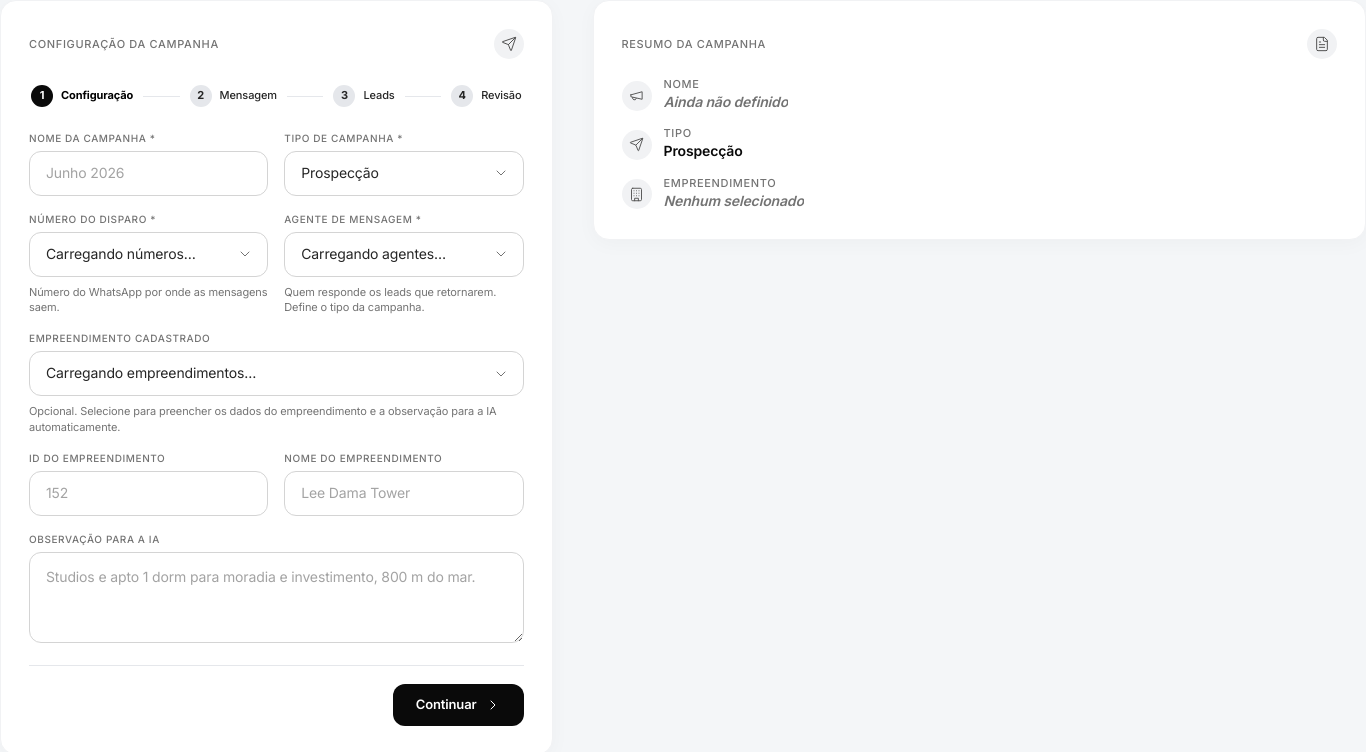
Test: DispatchForm › não deixa avançar sem número e sem agente
Type "Campanha teste" into the field labelled "Nome da campanha *".
click(149, 173); type("Campanha teste")  # box [29,151,268,196]
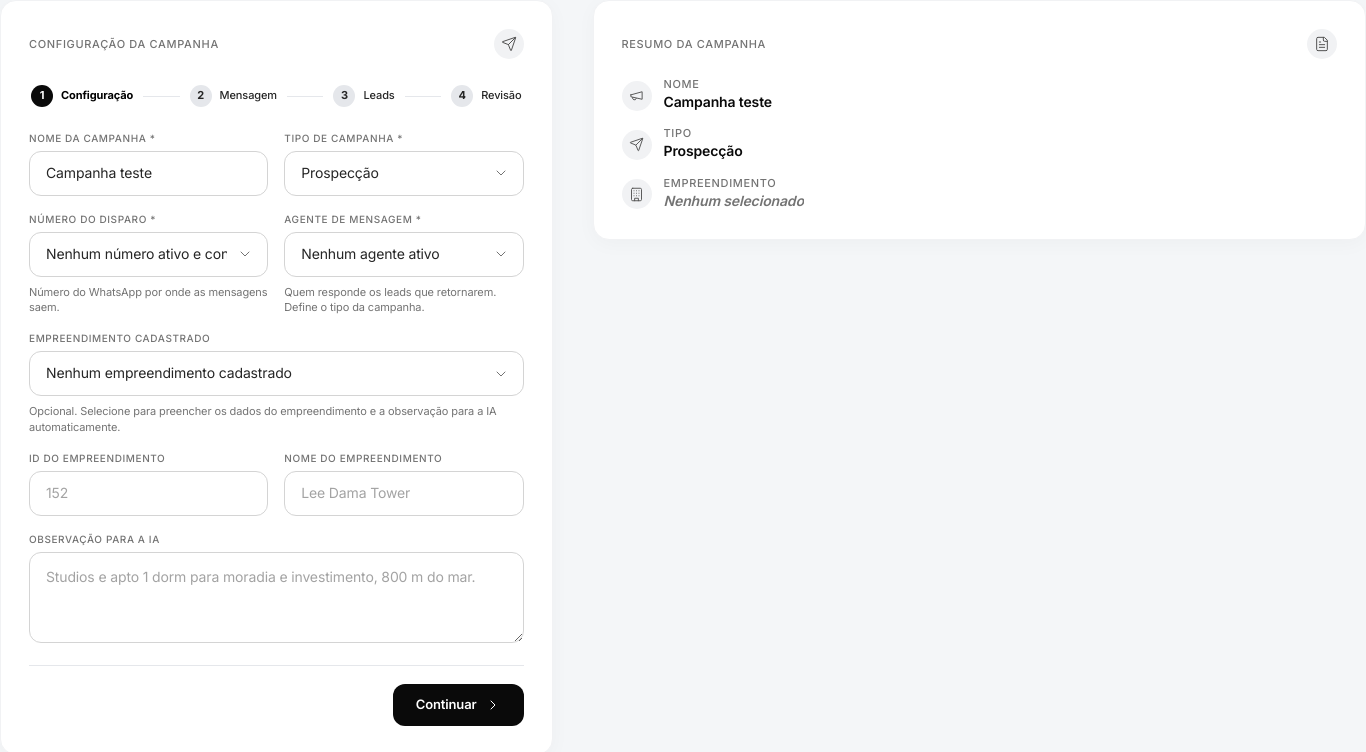
Click the button "Continuar".
click(458, 705)  # box [393,684,524,726]
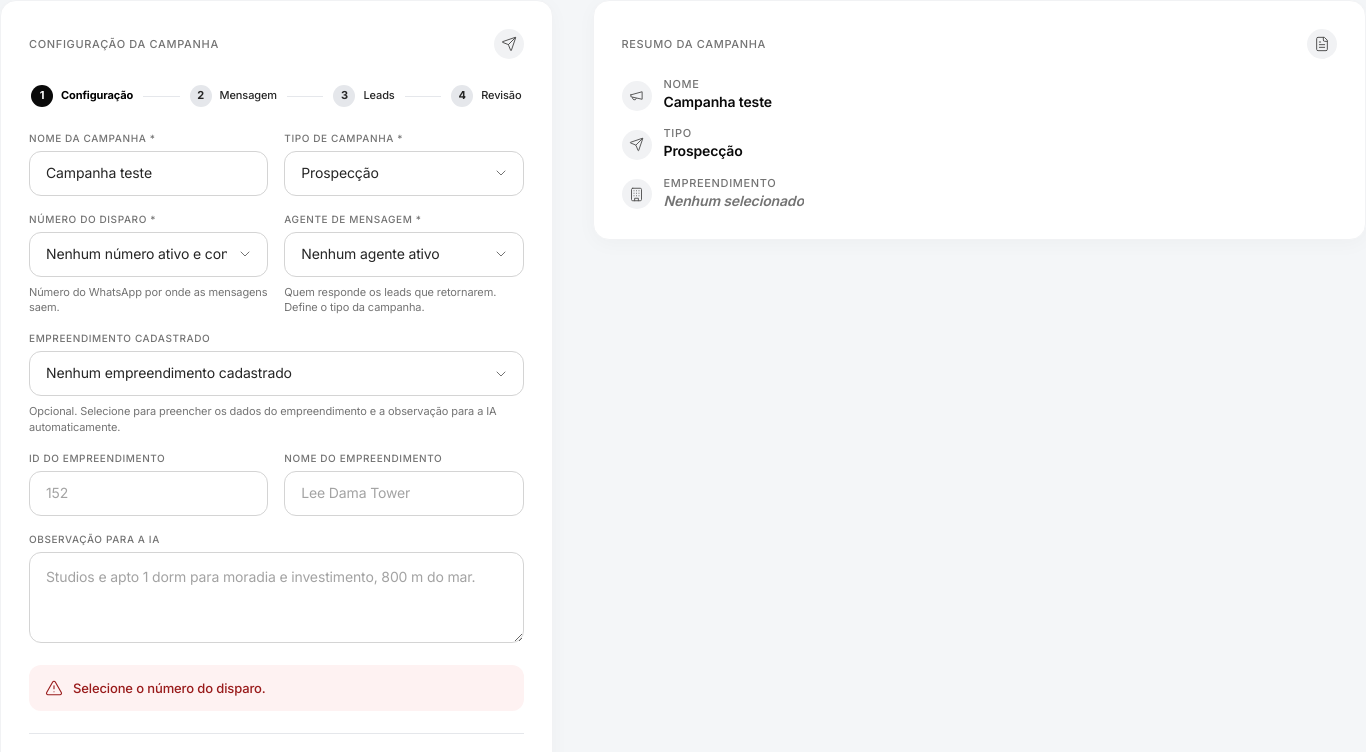
Now the text "Selecione o número do disparo." is shown, box [29,665,524,711]
